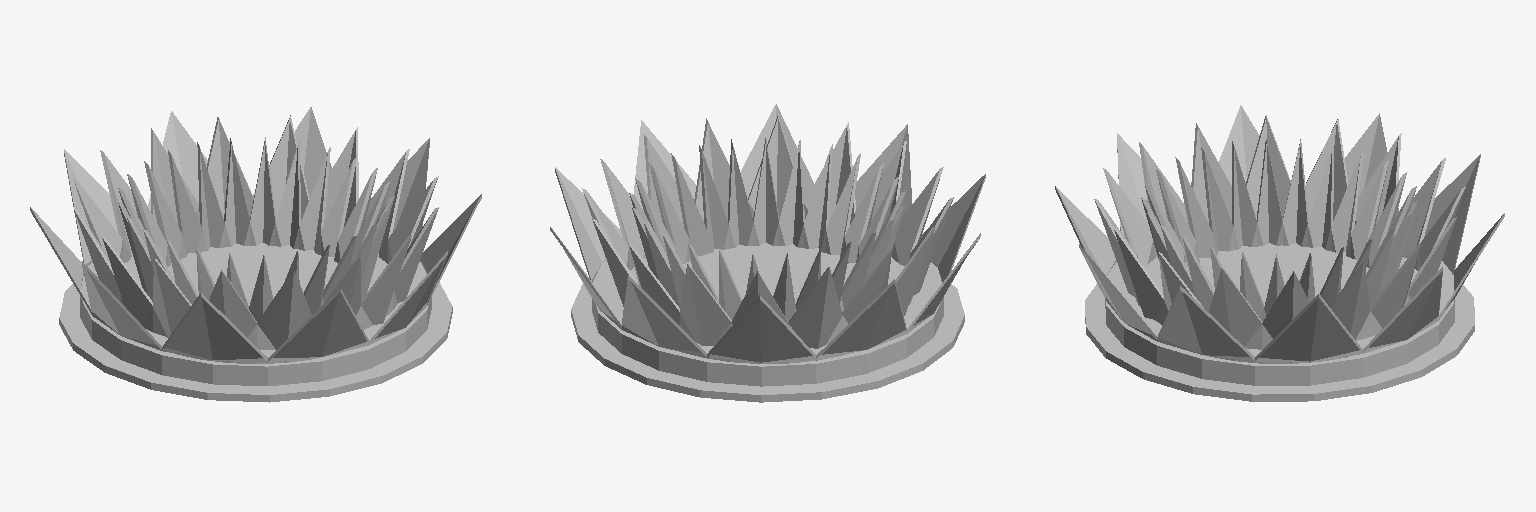
File: portal_abrir_000018.obj
3 views of the same model, side by side, from view 1: azimuth 30°, elevation 25°; view 2: azimuth 150°, elevation 25°; view 3: azimuth 270°, elevation 25° (orthographic).
Parts seen in each view (by area): view 1: pCylinder1, Cylinder, Cylinder.001; view 2: pCylinder1, Cylinder.001, Cylinder; view 3: pCylinder1, Cylinder, Cylinder.001.
Part boxes in pixels (bbox=[...]): pCylinder1: bbox=[30, 107, 481, 402]; Cylinder: bbox=[73, 115, 438, 363]; Cylinder.001: bbox=[118, 137, 394, 322]; pCylinder1: bbox=[550, 104, 985, 402]; Cylinder.001: bbox=[629, 138, 906, 321]; Cylinder: bbox=[582, 114, 953, 363]; pCylinder1: bbox=[1055, 105, 1504, 401]; Cylinder: bbox=[1094, 115, 1465, 363]; Cylinder.001: bbox=[1141, 139, 1418, 321].
Size of the model in its own units: 3.44 by 1.08 by 3.45.